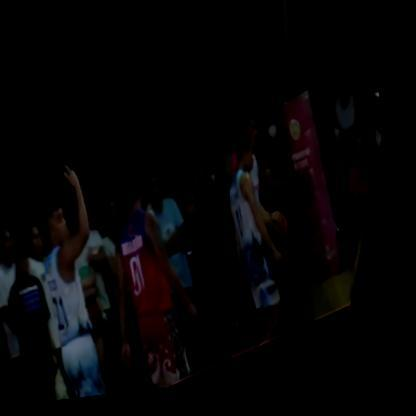basketball: (270, 210, 311, 261)
